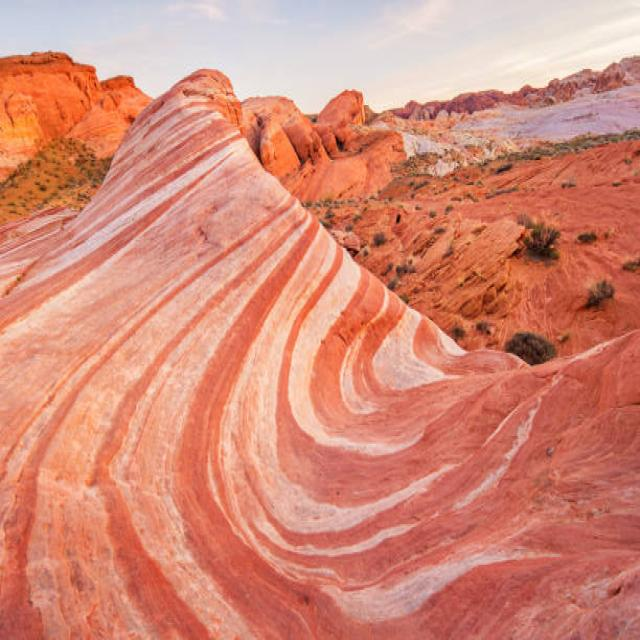Sedimentary: (1, 47, 632, 640)
